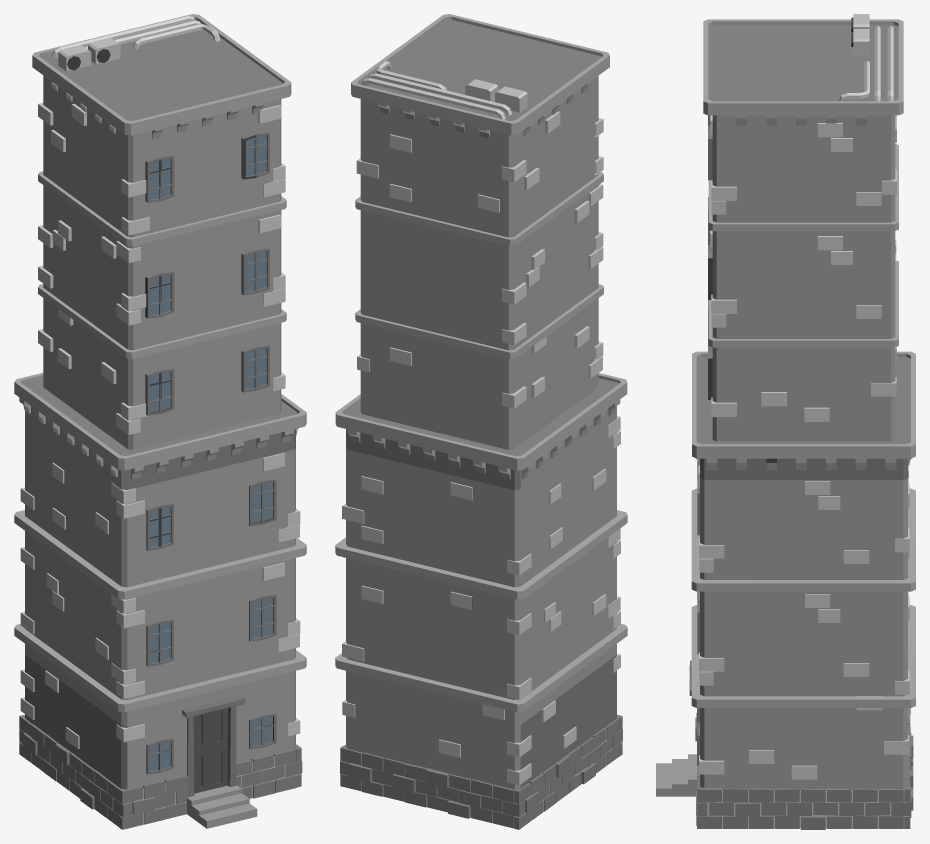
The model's file is qtb_6story_stack.fbx.
The picture shows the model from 3 angles, left to right: view 1: azimuth 30°, elevation 25°; view 2: azimuth 150°, elevation 25°; view 3: azimuth 270°, elevation 25°; orthographic projection. The views are drawn at different scales.
Parts seen in each view (by area): view 1: qtb_6story_stack_LOD0; view 2: qtb_6story_stack_LOD0; view 3: qtb_6story_stack_LOD0.
Part boxes in pixels (<box>): qtb_6story_stack_LOD0: <box>14,14,306,829</box>; qtb_6story_stack_LOD0: <box>335,14,627,829</box>; qtb_6story_stack_LOD0: <box>656,14,915,829</box>.
Size of what is drawn, in the model's own units: 5.83 by 21.07 by 6.75.
1 material, 1 textured.
